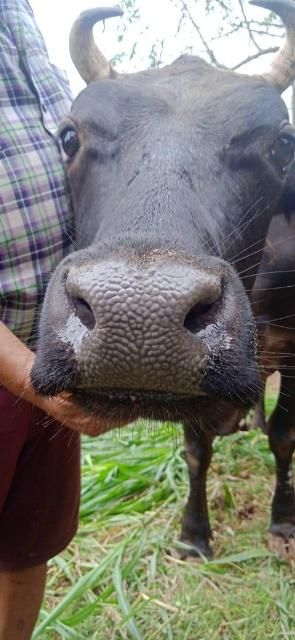Muzzle: (68, 266, 208, 396)
